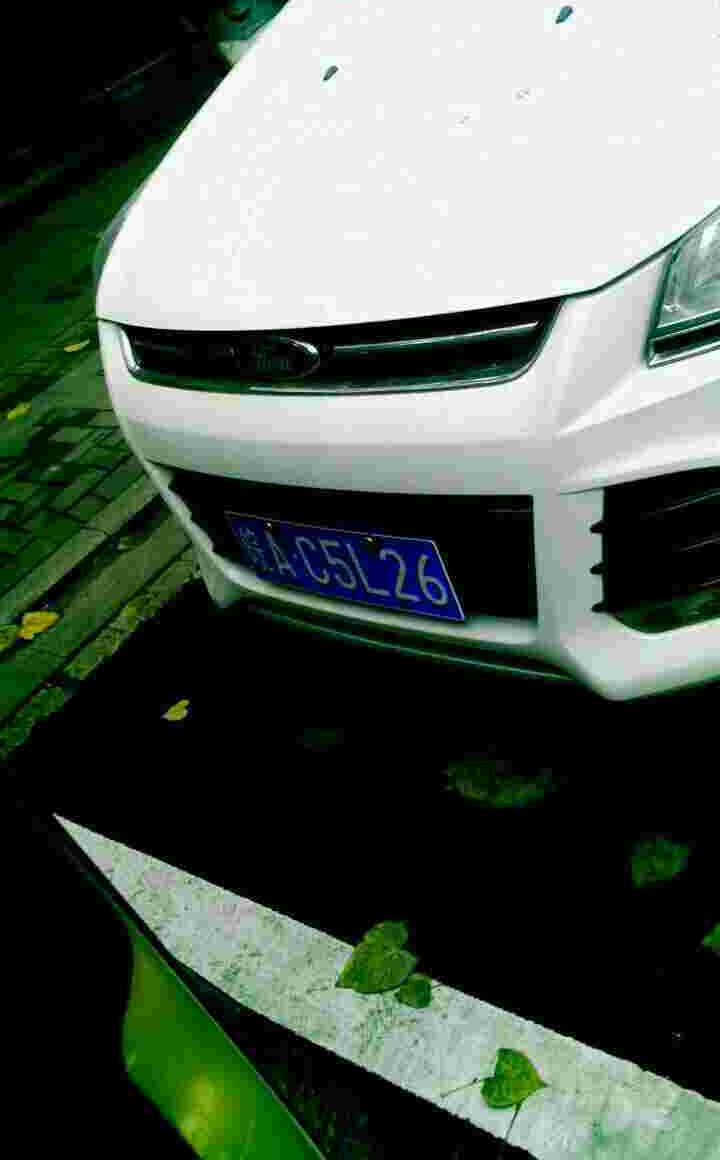plate: (213, 504, 470, 625)
